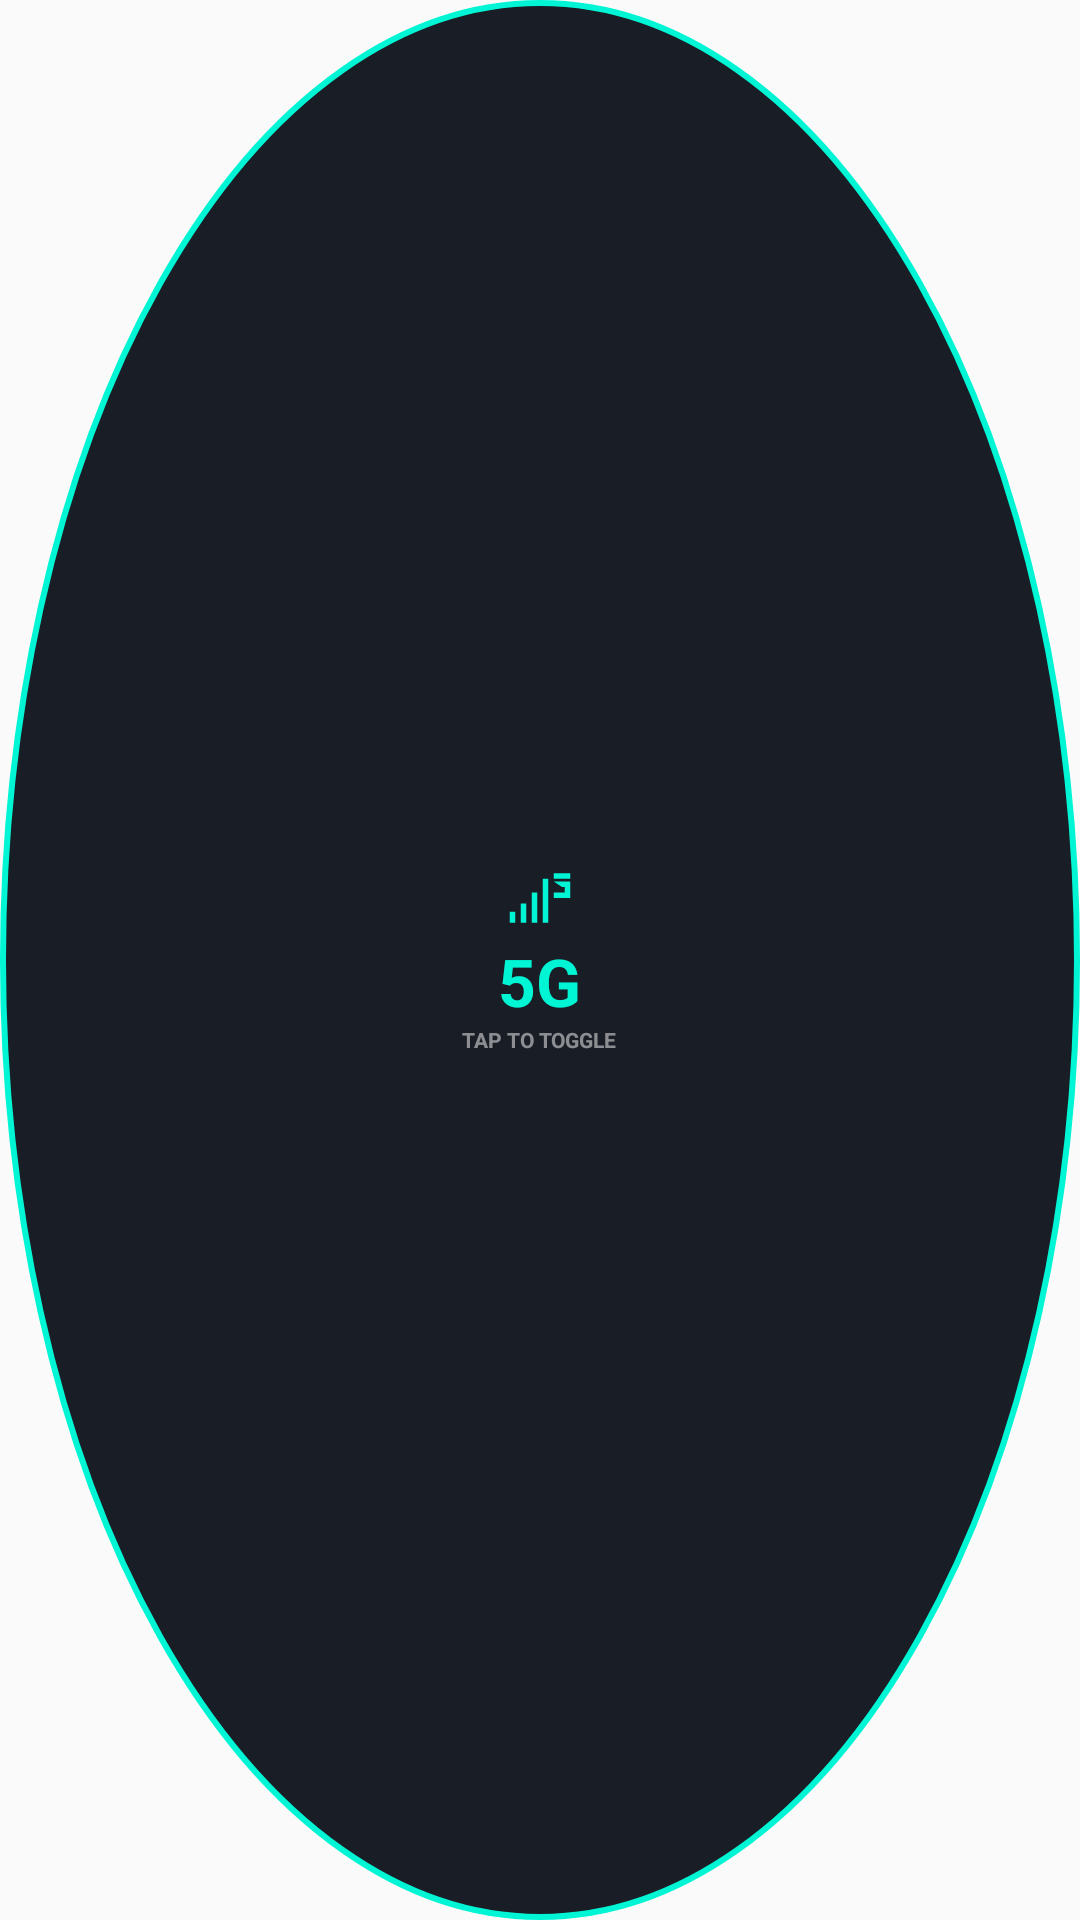

Icon click points for this 1080x1920 phone screenshot, format (x=x, y=y):
Network Icon: (x=540, y=898)
